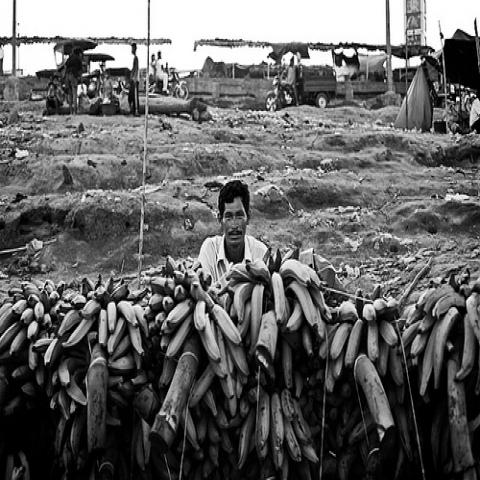motorcycle: (264, 74, 300, 112), (148, 70, 190, 101)
